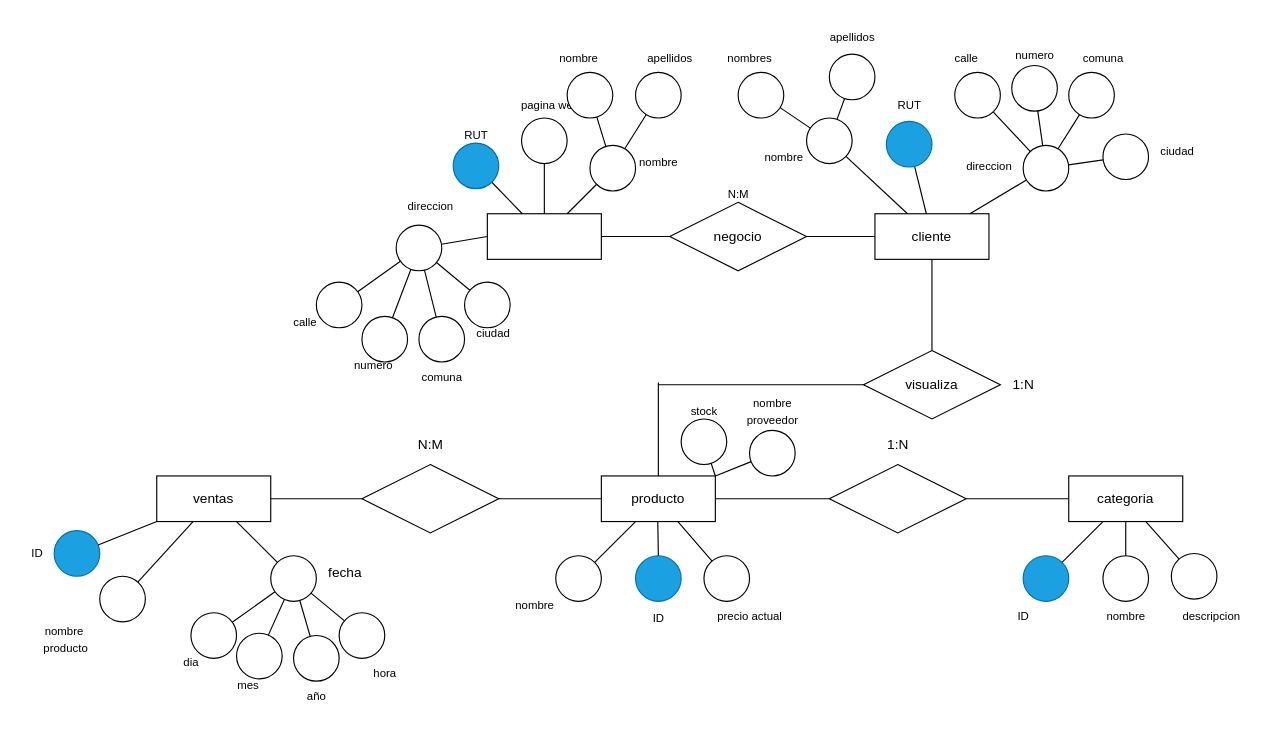
The diagram is 1270 pixels wide and 732 high, and some of its shapes have lost their labels. Each missing label, with the centre of its shape:
"pertenece" belongs at (897,498).
"posee" belongs at (430,498).
"Proveedores" belongs at (543,236).
